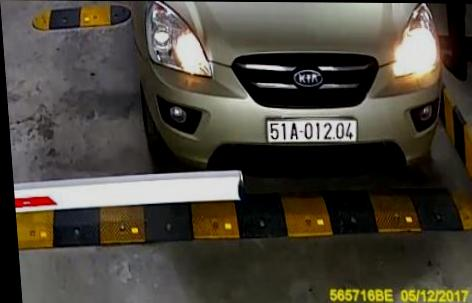License_Plate: (252, 112, 368, 150)
